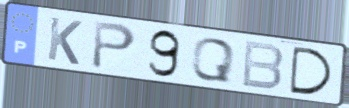9: (146, 29, 183, 79)
B: (240, 39, 286, 92)
D: (288, 44, 336, 97)
K: (44, 15, 84, 67)
P: (90, 20, 139, 72)
Q: (189, 36, 237, 84)
